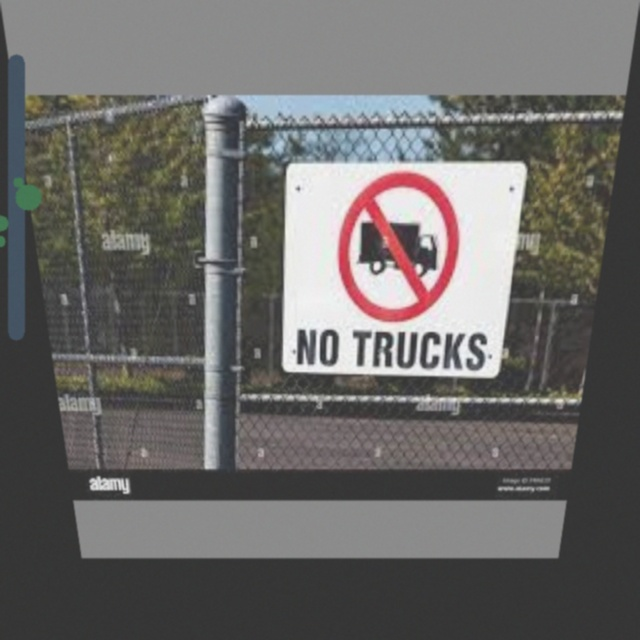Truck_Prohibited: (331, 167, 470, 325)
